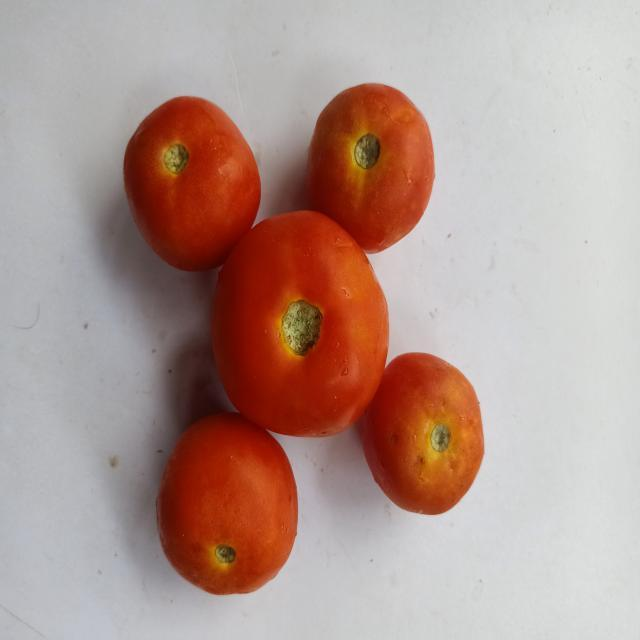Tomato: (206, 206, 398, 443), (151, 408, 312, 609), (119, 93, 267, 281), (302, 77, 440, 256), (357, 348, 492, 523)
